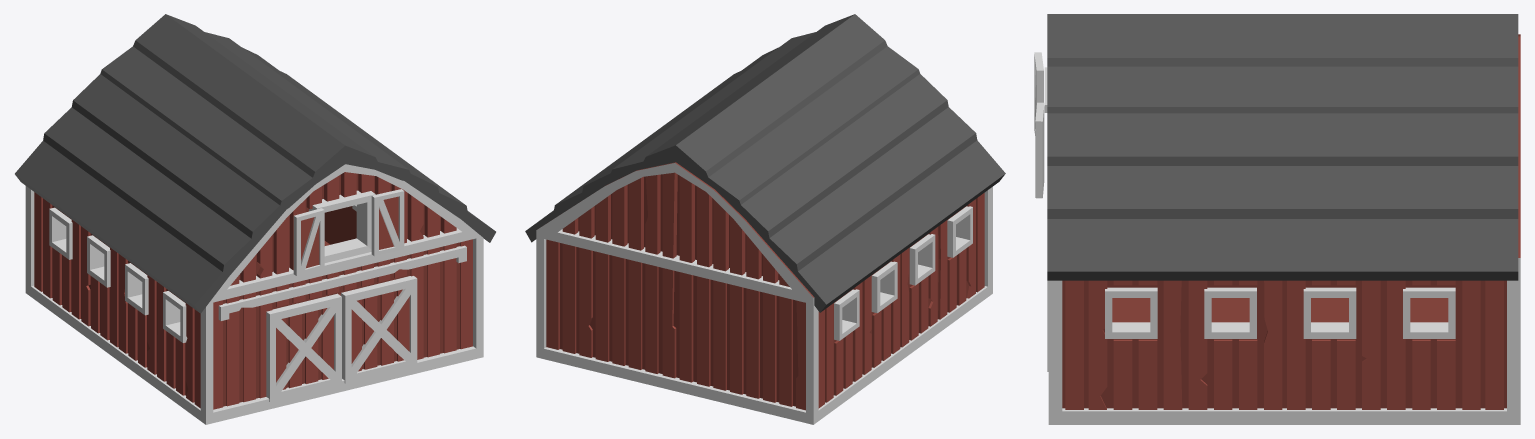
Rendered from lada.glb.
The picture shows the model from 3 angles, left to right: view 1: azimuth 30°, elevation 25°; view 2: azimuth 150°, elevation 25°; view 3: azimuth 270°, elevation 25°; orthographic projection. The views are drawn at different scales.
Visible parts, largest first — view 1: Barn, Barn_Door, Barn_Door2, Barn_Window, Barn_Window2; view 2: Barn; view 3: Barn, Barn_Window, Barn_Window2.
Part boxes in pixels (bbox=[...]): Barn: bbox=[15, 14, 495, 424]; Barn_Door: bbox=[340, 276, 417, 383]; Barn_Door2: bbox=[266, 293, 341, 401]; Barn_Window: bbox=[371, 189, 404, 256]; Barn_Window2: bbox=[293, 208, 324, 275]; Barn: bbox=[525, 14, 1005, 424]; Barn: bbox=[1044, 14, 1520, 424]; Barn_Window: bbox=[1035, 102, 1044, 198]; Barn_Window2: bbox=[1034, 52, 1043, 135].
Bounding box in the file's own units: 7.73 × 6.01 × 8.22.
